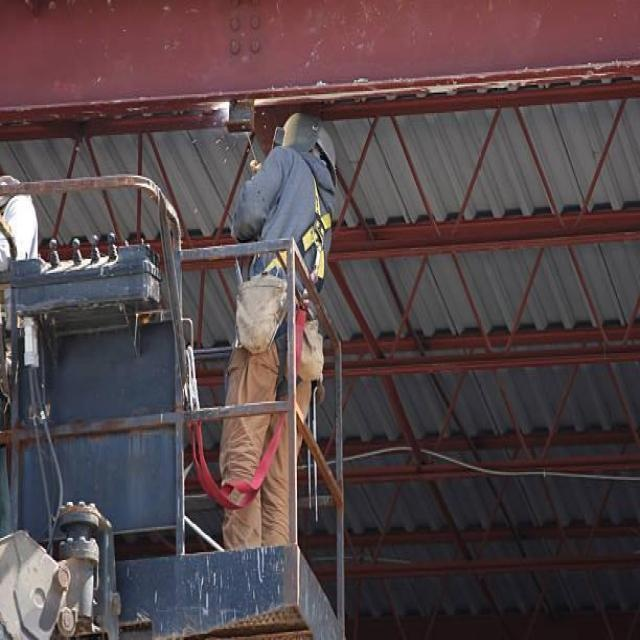Arnes_seguridad: (248, 151, 337, 399)
